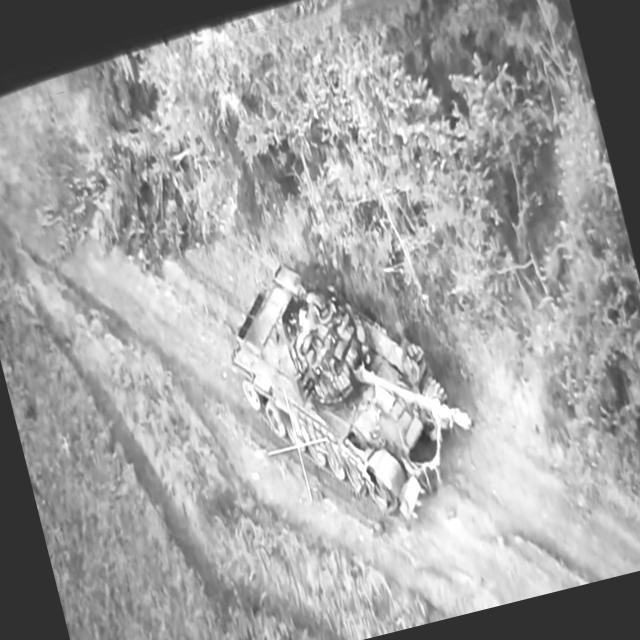MBT: (209, 227, 501, 582)
